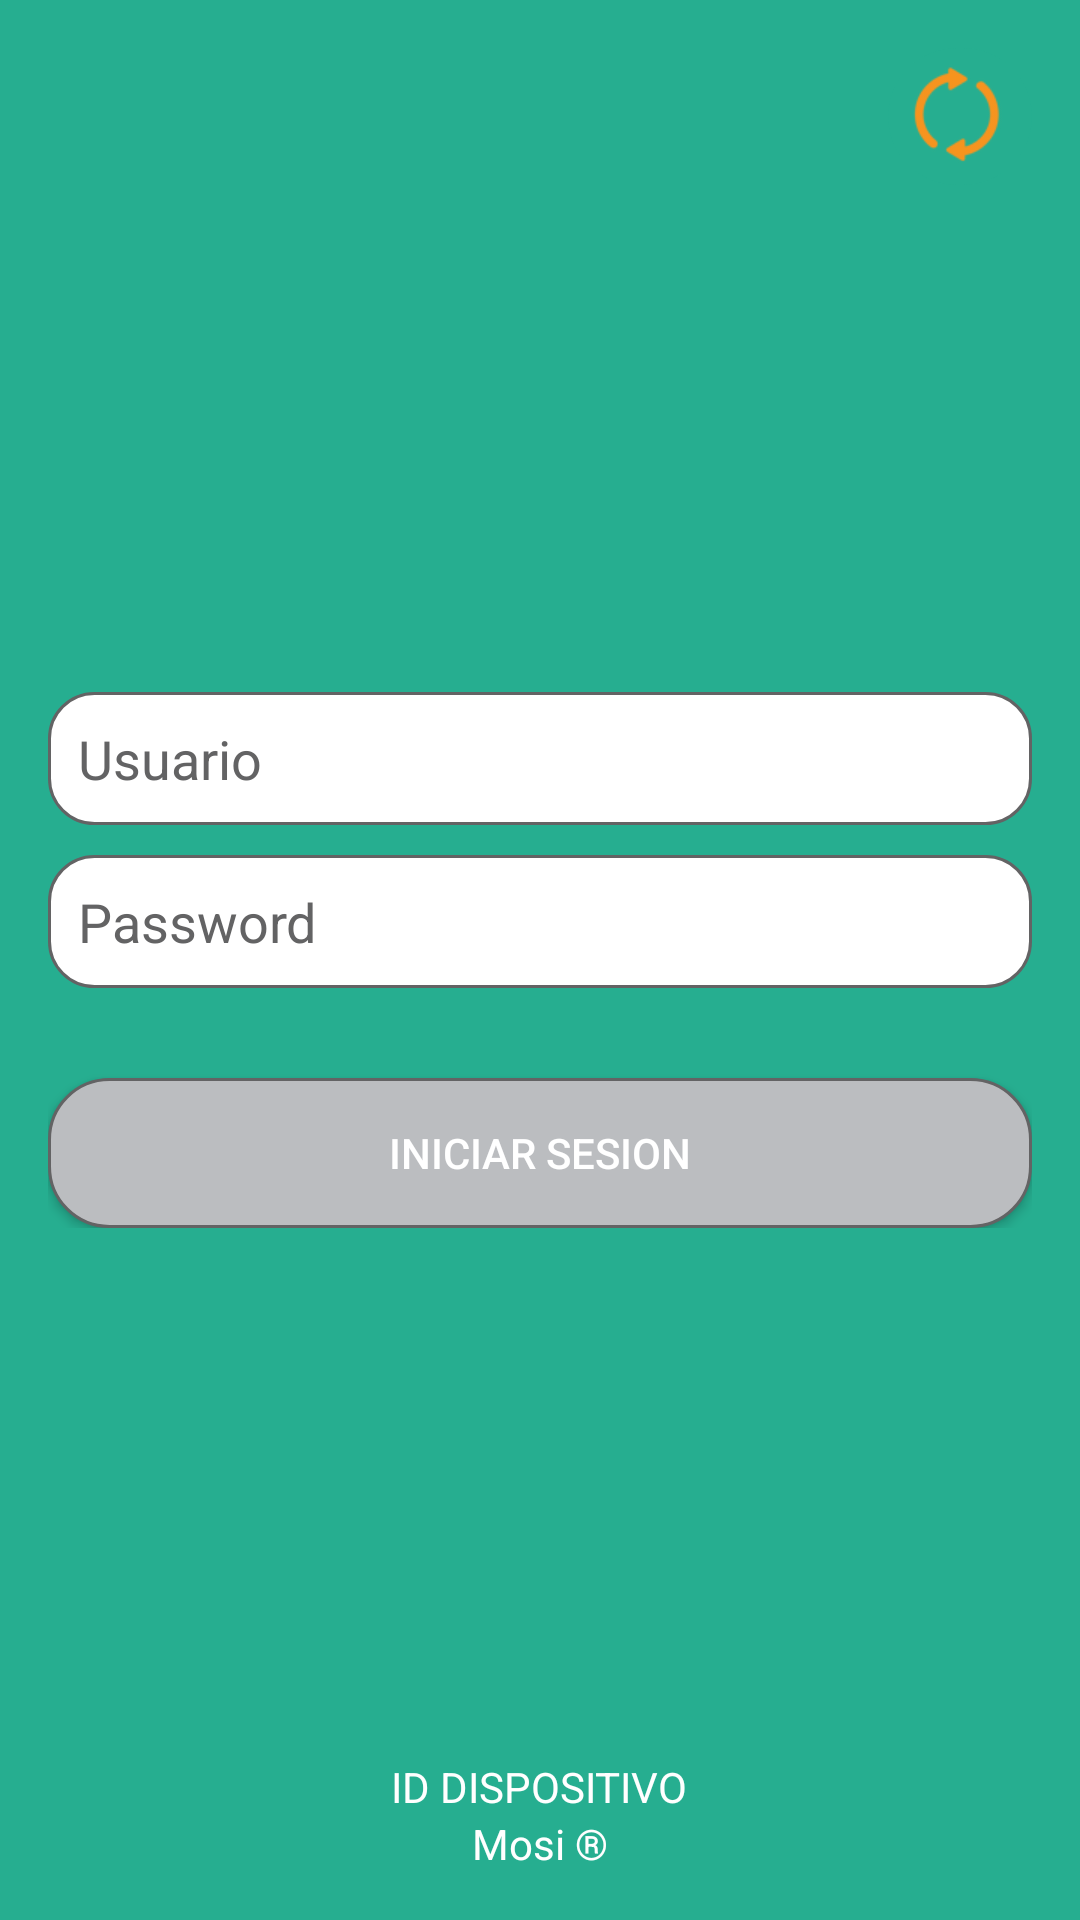

Where icons sit on this 1080px×1920px app screen, as (x1, y1, x2, y2):
Sincronizacion: (914, 67, 1000, 161)
